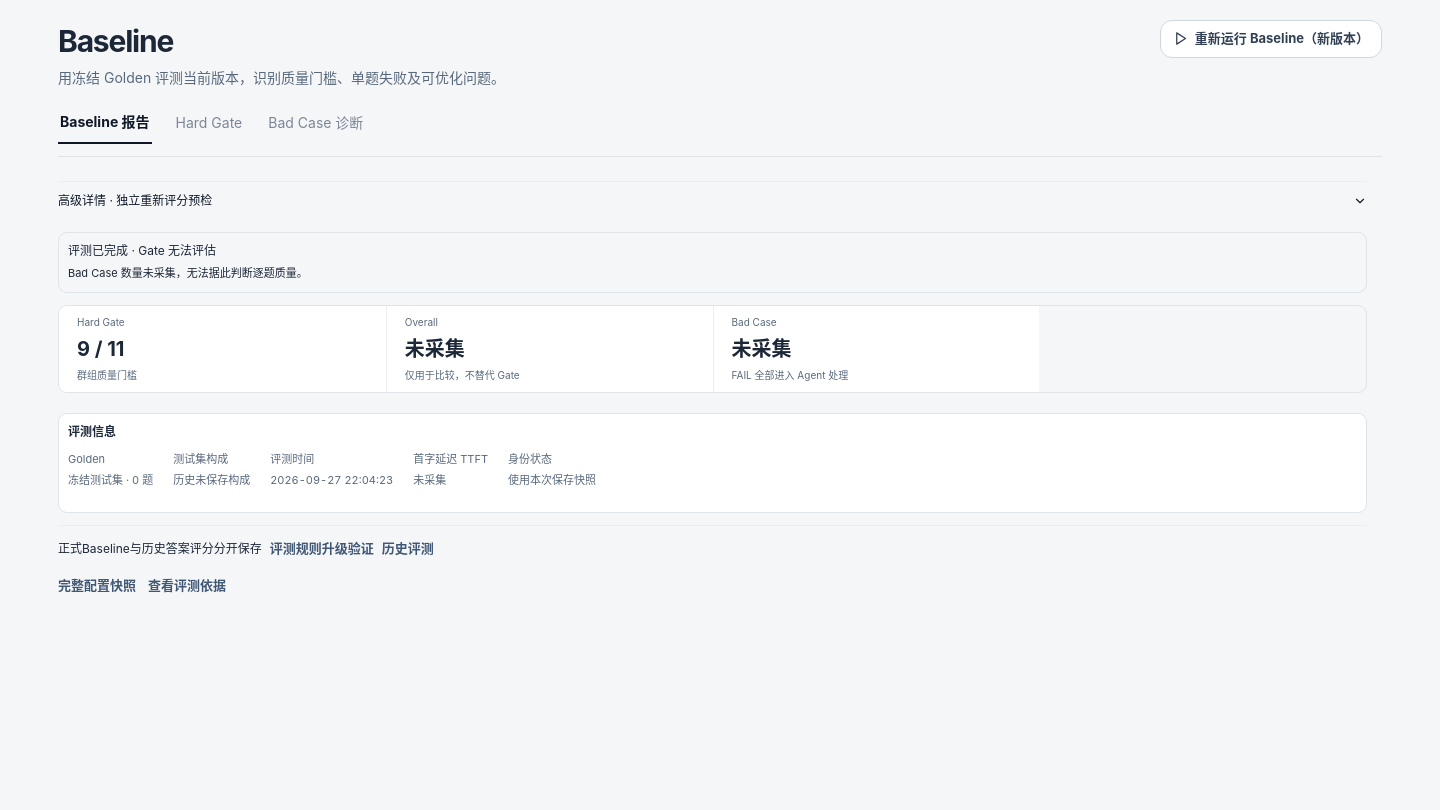
formats Baseline time locally and shortens the run ID
Expected: the element with class "baseline-run-summary" shows "2026-09-27 22:04:23", [270,474,393,488]
Click the button "查看评测依据".
click(187, 586)  # box [148,574,226,599]
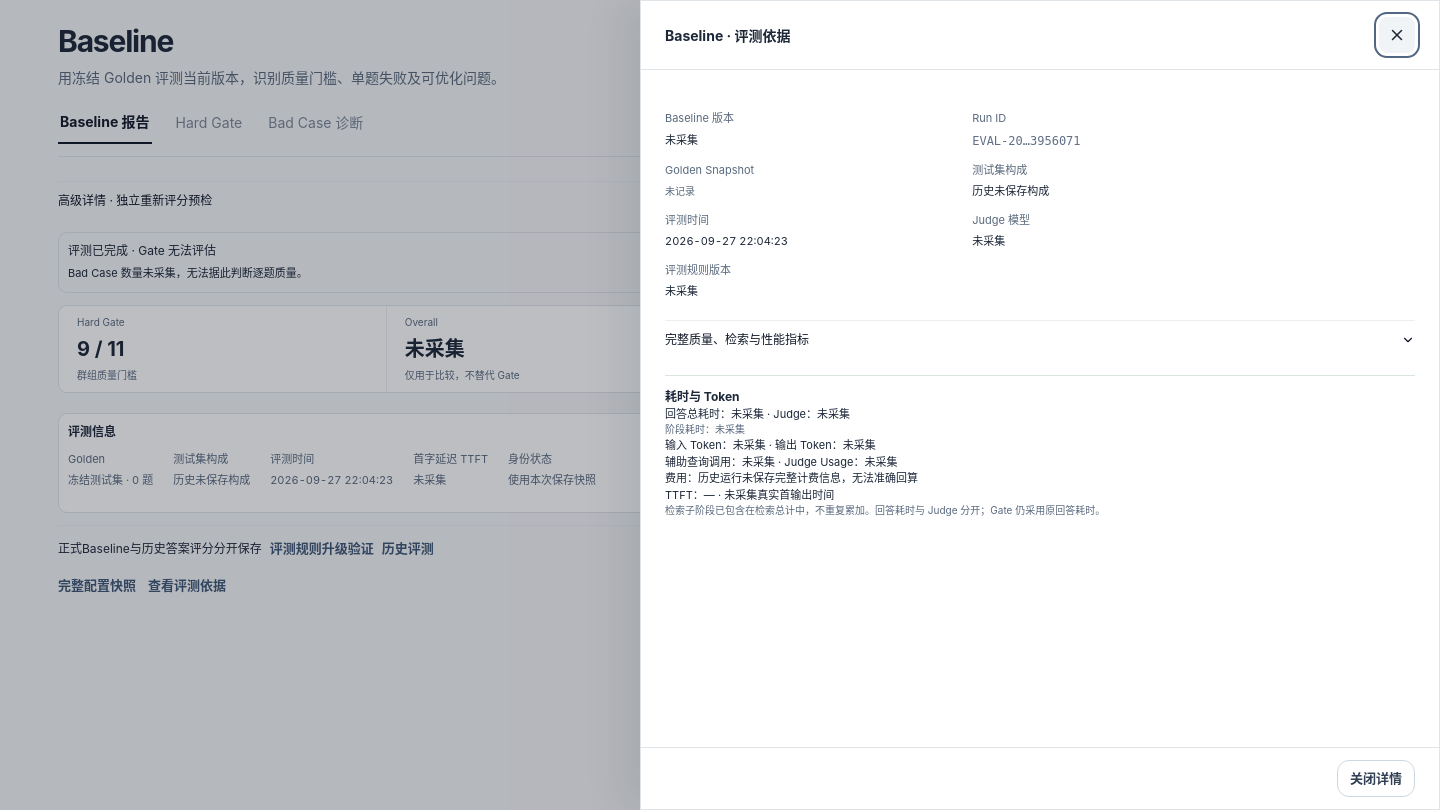
Expected: the dialog shows "2026-09-27 22:04:23", [665,234,788,248]
